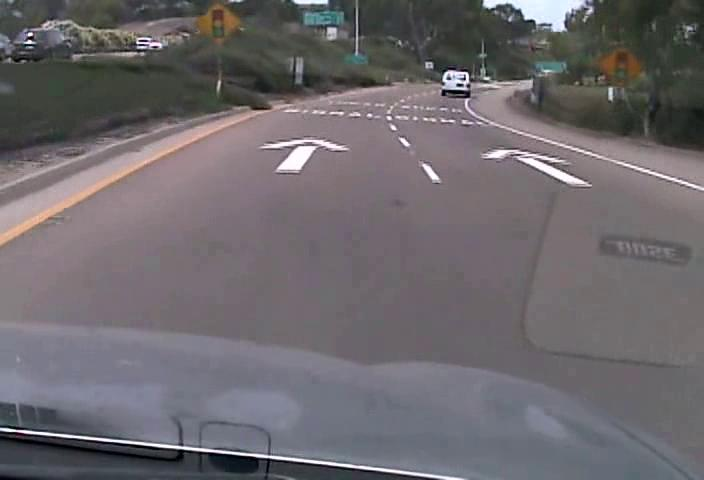signalAhead: (193, 1, 241, 46)
